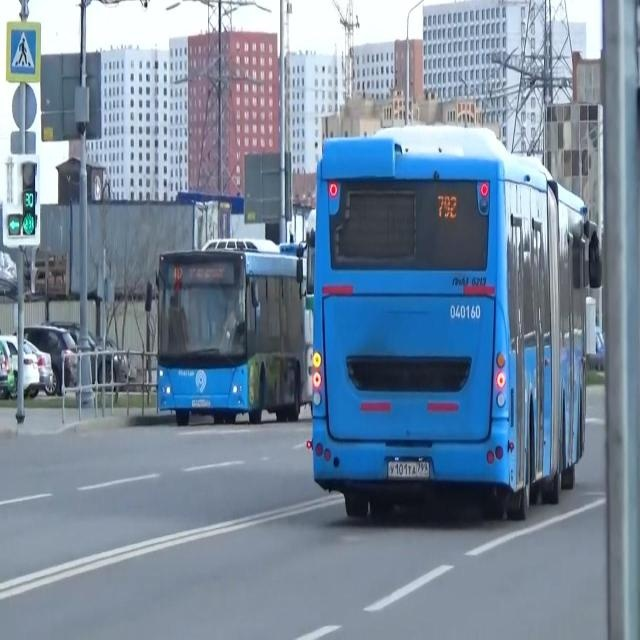Bus: (294, 132, 612, 526), (154, 241, 306, 426)
